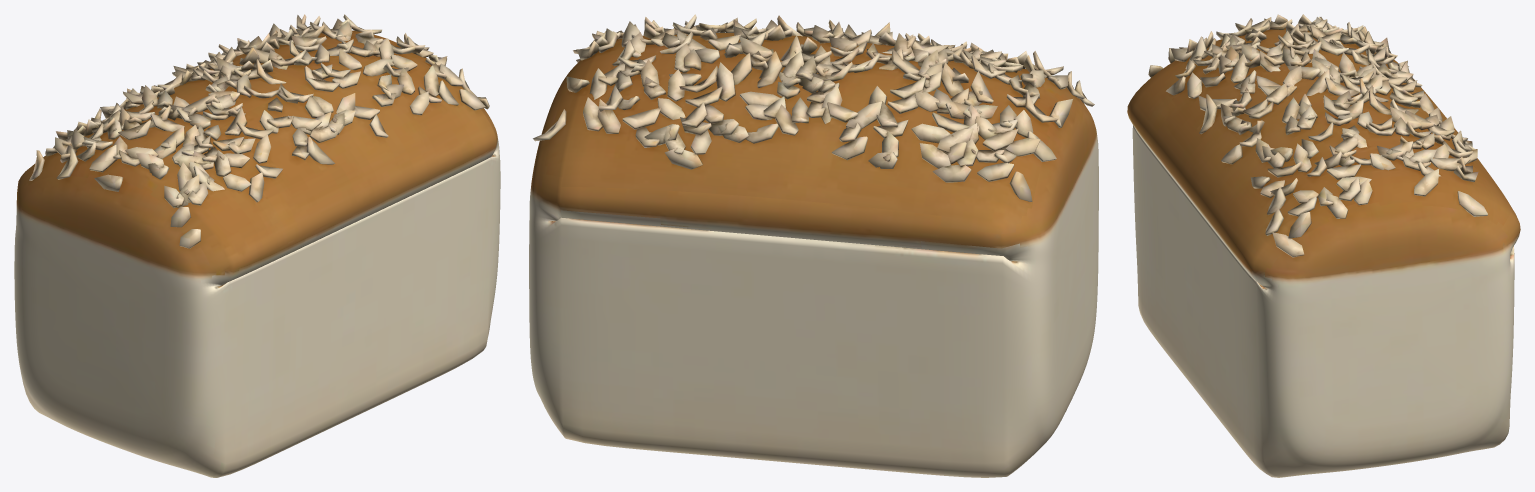
Rendered from loaf--coconut-dried.glb.
3 renders of one model, left to right at view 1: azimuth 30°, elevation 25°; view 2: azimuth 150°, elevation 25°; view 3: azimuth 270°, elevation 25°, orthographic. The views are drawn at different scales.
Parts seen in each view (by area): view 1: loaf_coconut-dried; view 2: loaf_coconut-dried; view 3: loaf_coconut-dried.
Part boxes in pixels (x1=…): loaf_coconut-dried: x1=14, y1=14, x2=500, y2=477; loaf_coconut-dried: x1=529, y1=14, x2=1098, y2=477; loaf_coconut-dried: x1=1127, y1=14, x2=1520, y2=477.
Size of the model in its own units: 1.09 by 0.7634 by 0.8491.
Materials: 1 (1 with a texture image).
